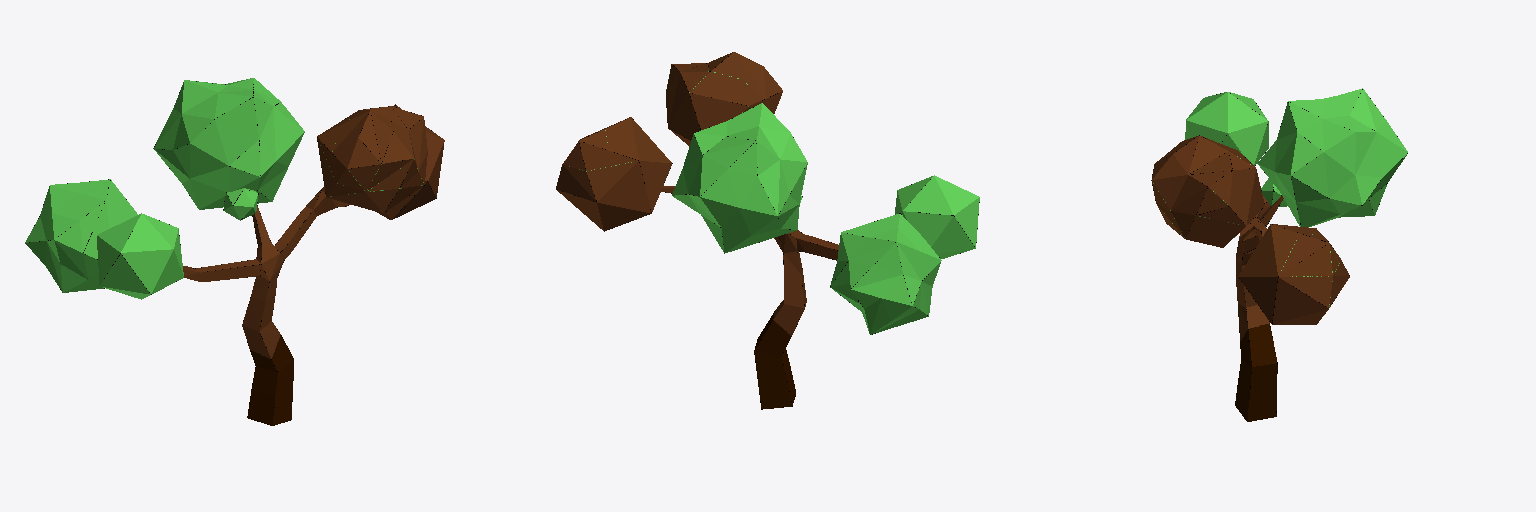
The picture shows the model from 3 angles: view 1: azimuth 30°, elevation 25°; view 2: azimuth 150°, elevation 25°; view 3: azimuth 270°, elevation 25°; orthographic projection.
Visible parts, largest first — view 1: Cube.003_Cube.004; view 2: Cube.003_Cube.004; view 3: Cube.003_Cube.004.
Part boxes in pixels (left/top/right/bottom): Cube.003_Cube.004: left=25, top=78, right=444, bottom=425; Cube.003_Cube.004: left=556, top=52, right=979, bottom=409; Cube.003_Cube.004: left=1151, top=88, right=1407, bottom=421.
Bounding box in the file's own units: 2.98 × 2.38 × 1.76.
Materials: 4 (1 with a texture image).